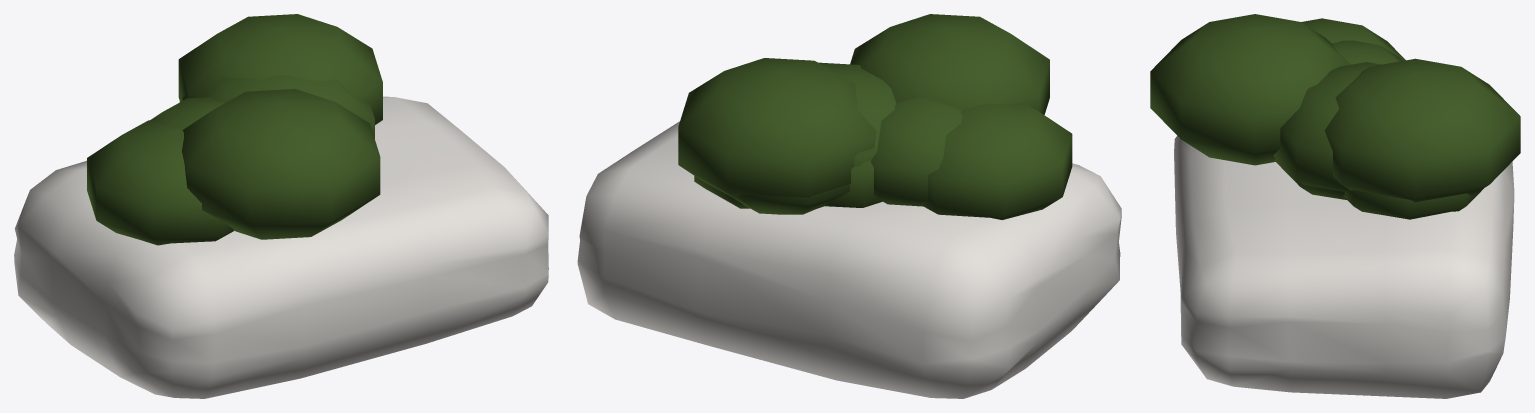
File: grave_moss.glb
3 renders of one model, left to right at view 1: azimuth 30°, elevation 25°; view 2: azimuth 150°, elevation 25°; view 3: azimuth 270°, elevation 25°, orthographic.
Parts seen in each view (by area): view 1: grave_moss; view 2: grave_moss; view 3: grave_moss.
Part boxes in pixels (<box>): grave_moss: <box>14,14,548,398</box>; grave_moss: <box>577,14,1121,398</box>; grave_moss: <box>1150,14,1520,398</box>.
Size of the model in its own units: 0.0997 by 0.0609 by 0.0762.
